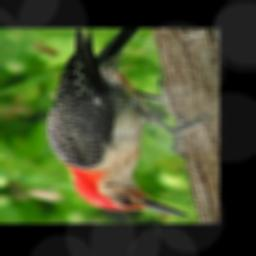Woodpecker: (43, 29, 213, 217)
